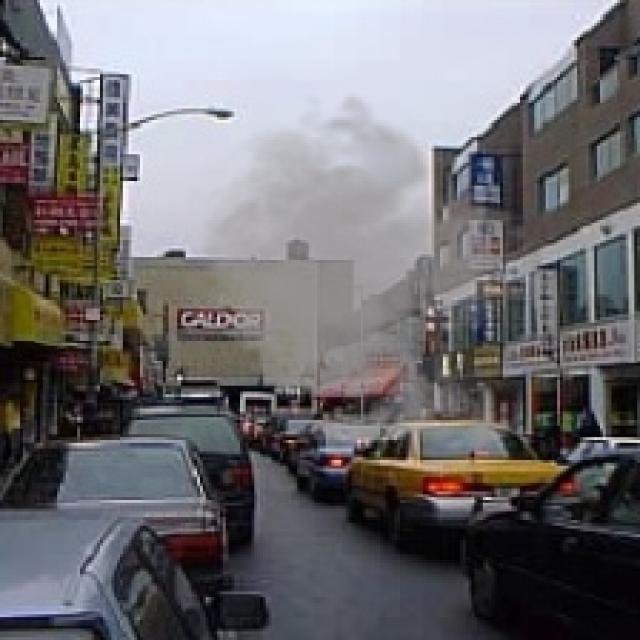Smoke: (171, 91, 580, 463)
